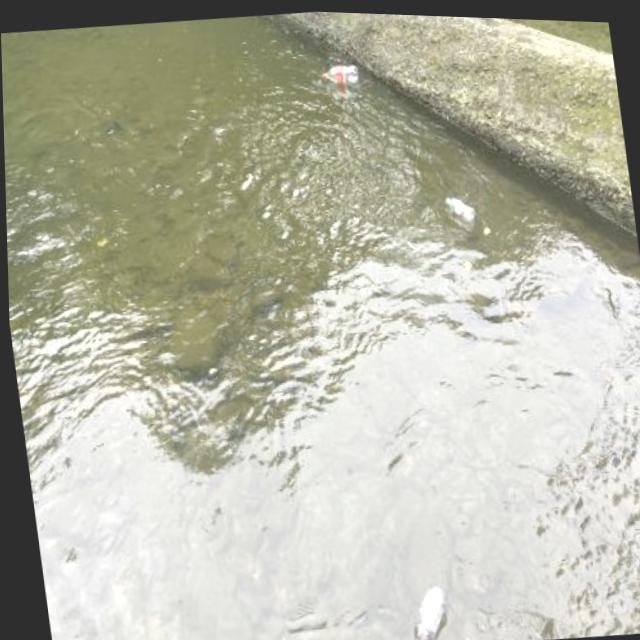Plastic: (394, 574, 451, 640), (441, 188, 476, 222), (319, 57, 359, 84)
